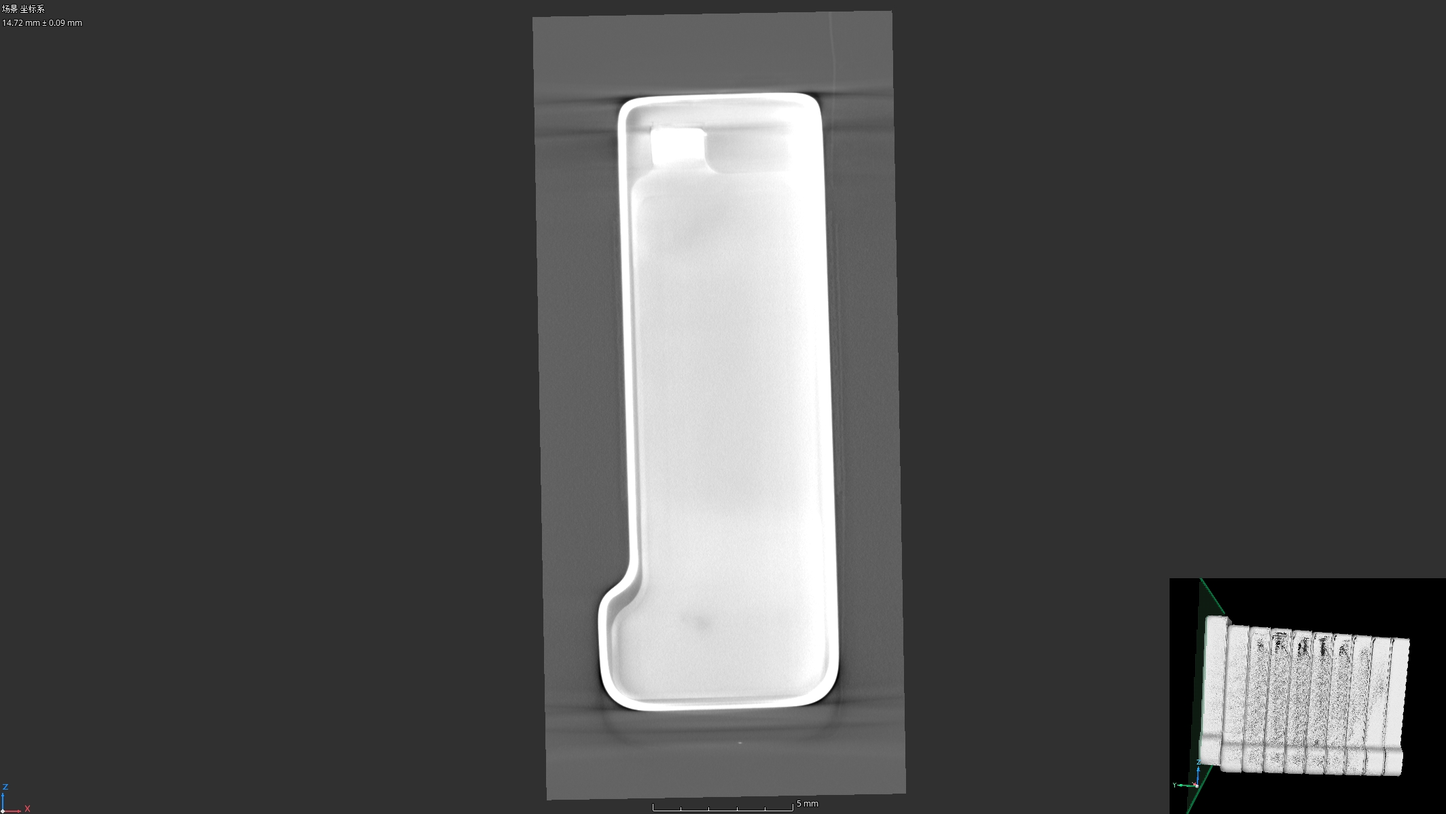dark: (682, 612, 721, 637)
